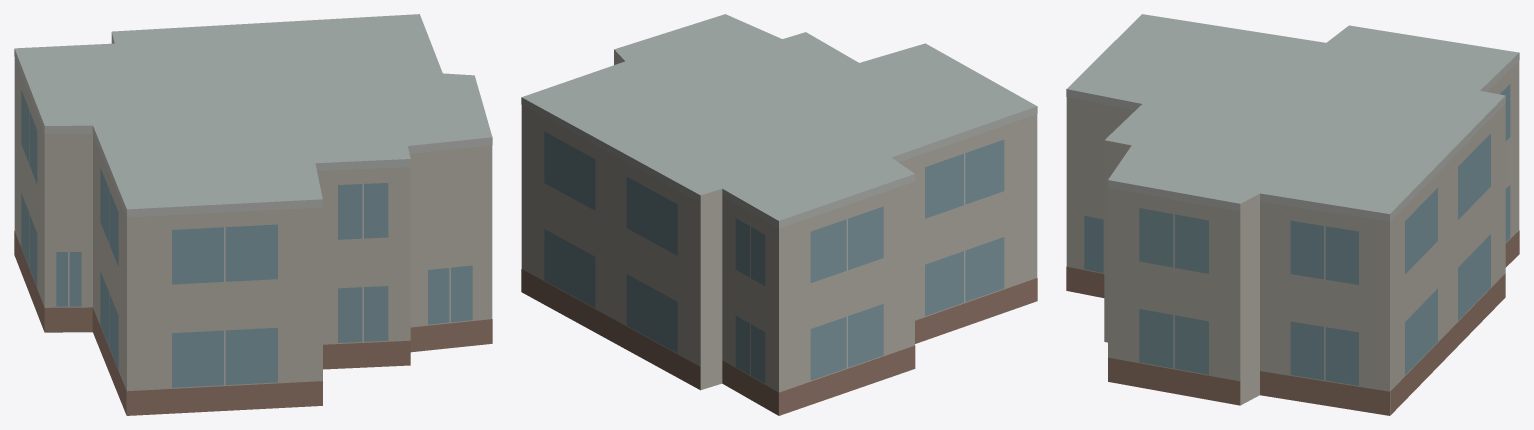
Rendered from survey-upis-32614599.glb.
3 renders of one model, left to right at view 1: azimuth 30°, elevation 25°; view 2: azimuth 150°, elevation 25°; view 3: azimuth 270°, elevation 25°, orthographic. The views are drawn at different scales.
Parts seen in each view (by area): view 1: survey-upis-32614599.tmp; view 2: survey-upis-32614599.tmp; view 3: survey-upis-32614599.tmp.
Part boxes in pixels (x1,y1,x2,y2): survey-upis-32614599.tmp: [14, 14, 492, 415]; survey-upis-32614599.tmp: [521, 14, 1037, 415]; survey-upis-32614599.tmp: [1066, 14, 1519, 415].
Bounding box in the file's own units: 13.42 × 6.3 × 12.83.
